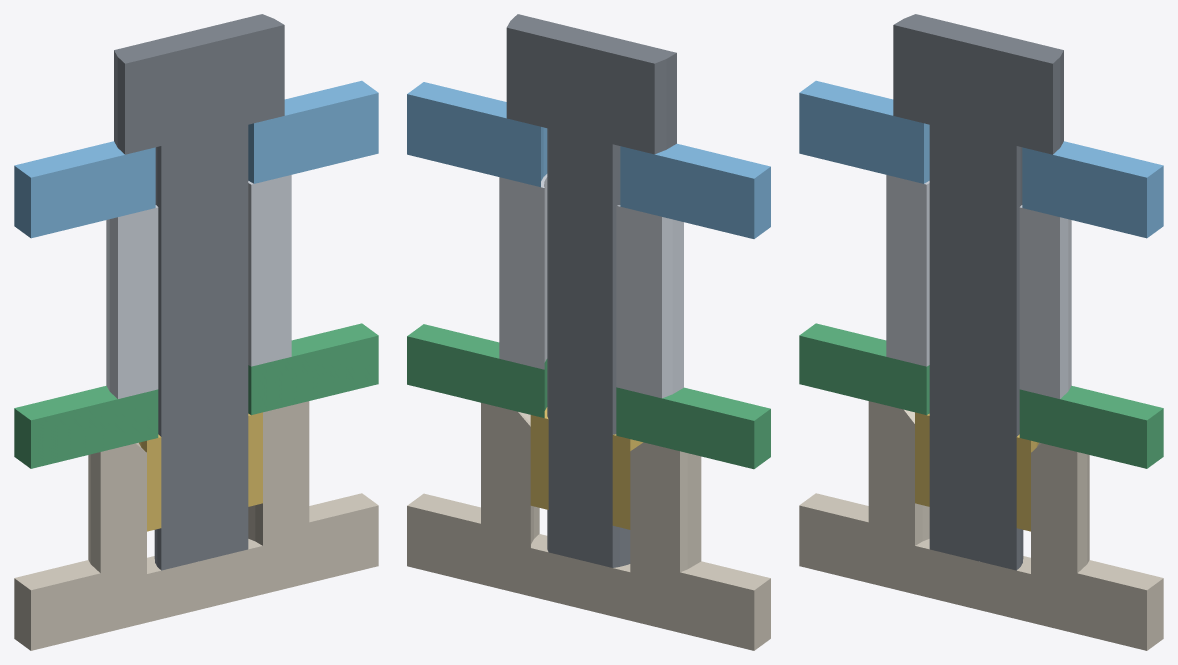
The model's file is purchased-spacer-fills-board-lid-gap.actual.glb.
3 views of the same model, side by side, from view 1: azimuth 30°, elevation 25°; view 2: azimuth 150°, elevation 25°; view 3: azimuth 330°, elevation 25° (orthographic).
Parts seen in each view (by area): view 1: EN1.H1.screw, base, lid, EN1.H1.spacer, board, EN1.H1.insert; view 2: EN1.H1.screw, base, EN1.H1.spacer, lid, board, EN1.H1.insert; view 3: EN1.H1.screw, base, lid, EN1.H1.spacer, board, EN1.H1.insert.
Part boxes in pixels (x1,y1,x2,y2): EN1.H1.screw: [114, 14, 284, 570]; base: [14, 401, 378, 650]; lid: [14, 80, 378, 238]; EN1.H1.spacer: [106, 175, 291, 398]; board: [14, 323, 378, 468]; EN1.H1.insert: [139, 412, 262, 531]; EN1.H1.screw: [506, 14, 676, 567]; base: [407, 403, 770, 650]; EN1.H1.spacer: [499, 174, 683, 398]; lid: [407, 82, 770, 238]; board: [407, 324, 770, 469]; EN1.H1.insert: [530, 407, 642, 529]; EN1.H1.screw: [893, 14, 1063, 570]; base: [799, 401, 1163, 650]; lid: [799, 80, 1163, 238]; EN1.H1.spacer: [886, 175, 1071, 398]; board: [799, 323, 1163, 468]; EN1.H1.insert: [915, 412, 1038, 531].
Bounding box in the file's own units: 12 × 18.6 × 1.
